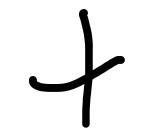plus: (27, 8, 125, 127)
